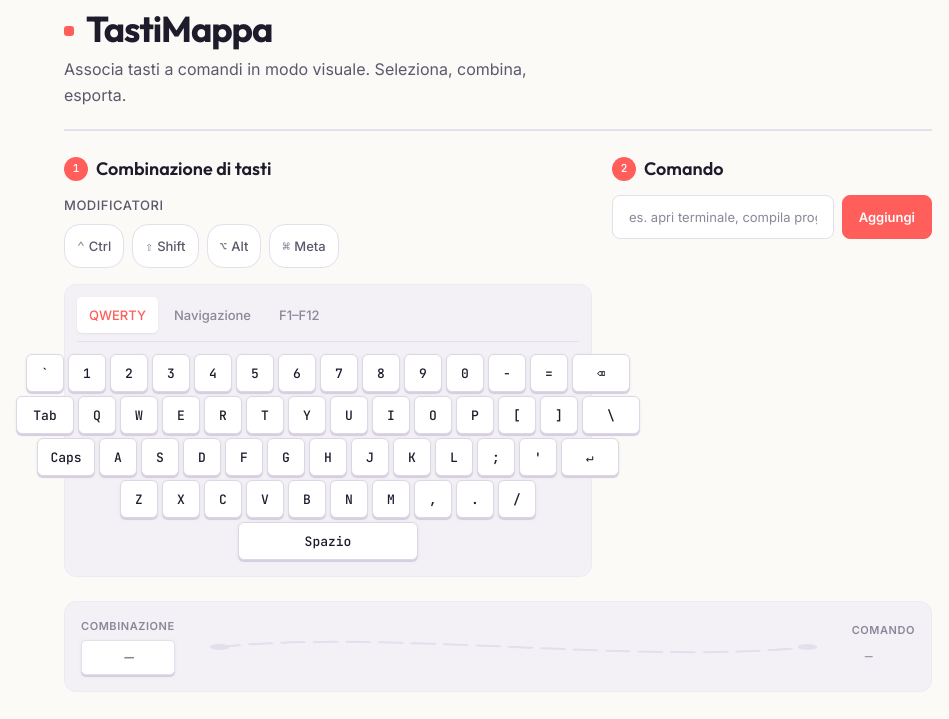
Scenario: TastiMappa › mostra errore se si prova ad aggiungere senza comando
The image size is (949, 719).
Click the button "Q": (97, 415) [78,396,116,434]
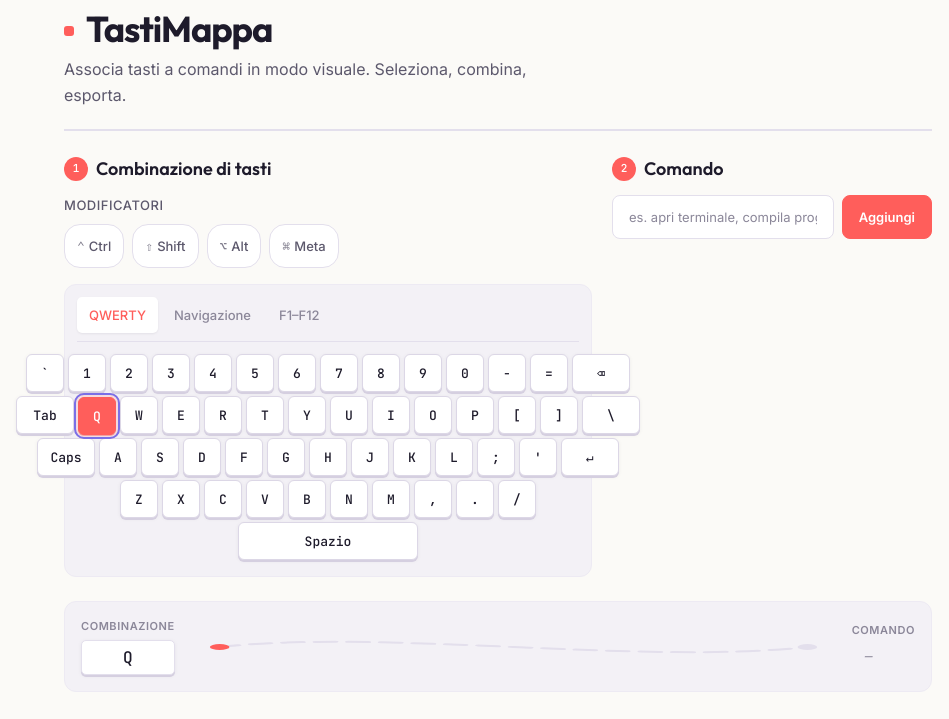
Click the button "Aggiungi": (887, 217) [842,195,932,239]
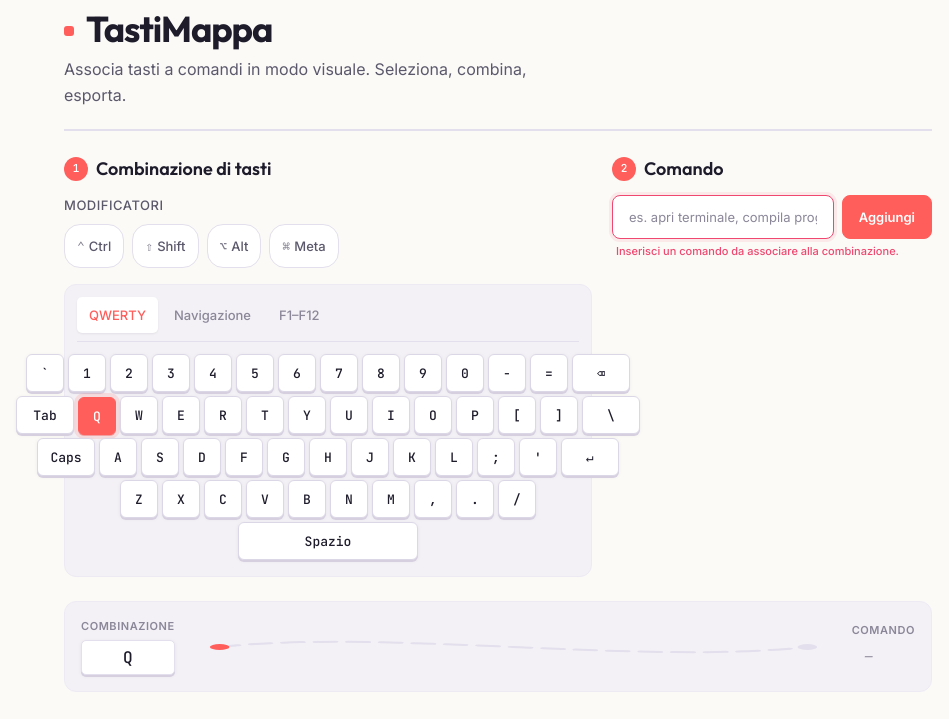
Now the text "Inserisci un comando da associare alla combinazione." is shown, box [612,243,932,261]
